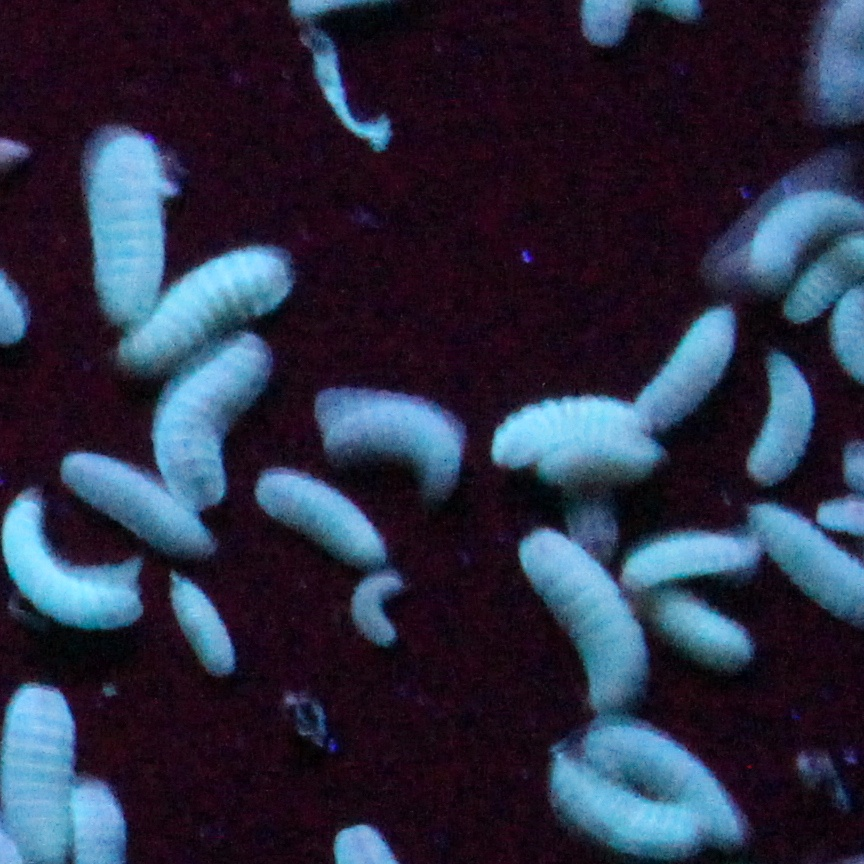larve: (514, 528, 674, 716), (126, 252, 286, 364), (149, 346, 266, 498), (594, 724, 758, 832), (314, 392, 470, 504), (57, 452, 223, 552), (86, 132, 174, 312), (542, 754, 714, 844), (252, 475, 400, 558), (646, 312, 742, 428), (738, 196, 858, 284), (490, 400, 642, 468), (745, 356, 810, 480), (163, 581, 246, 672), (658, 592, 754, 668), (354, 572, 412, 644)
